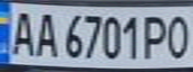0: (100, 12, 124, 61)
1: (121, 12, 142, 60)
6: (60, 10, 84, 60)
7: (81, 11, 103, 60)
A: (6, 7, 39, 56), (30, 9, 60, 58)
O: (163, 11, 193, 60)
P: (139, 11, 172, 61)
